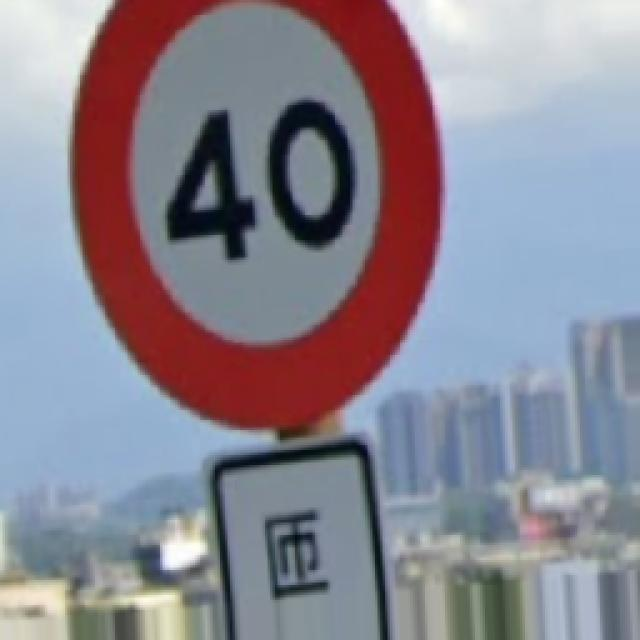Speed Limit -40-: (72, 0, 438, 425)
